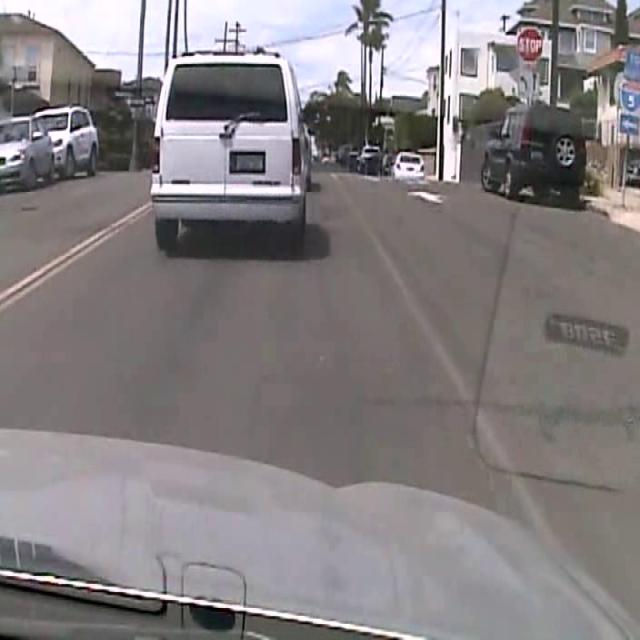stop: (516, 27, 543, 64)
